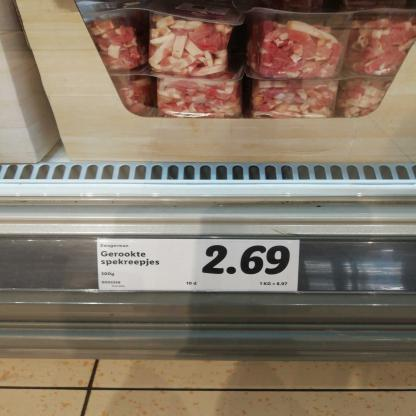prtg: (98, 240, 301, 293)
